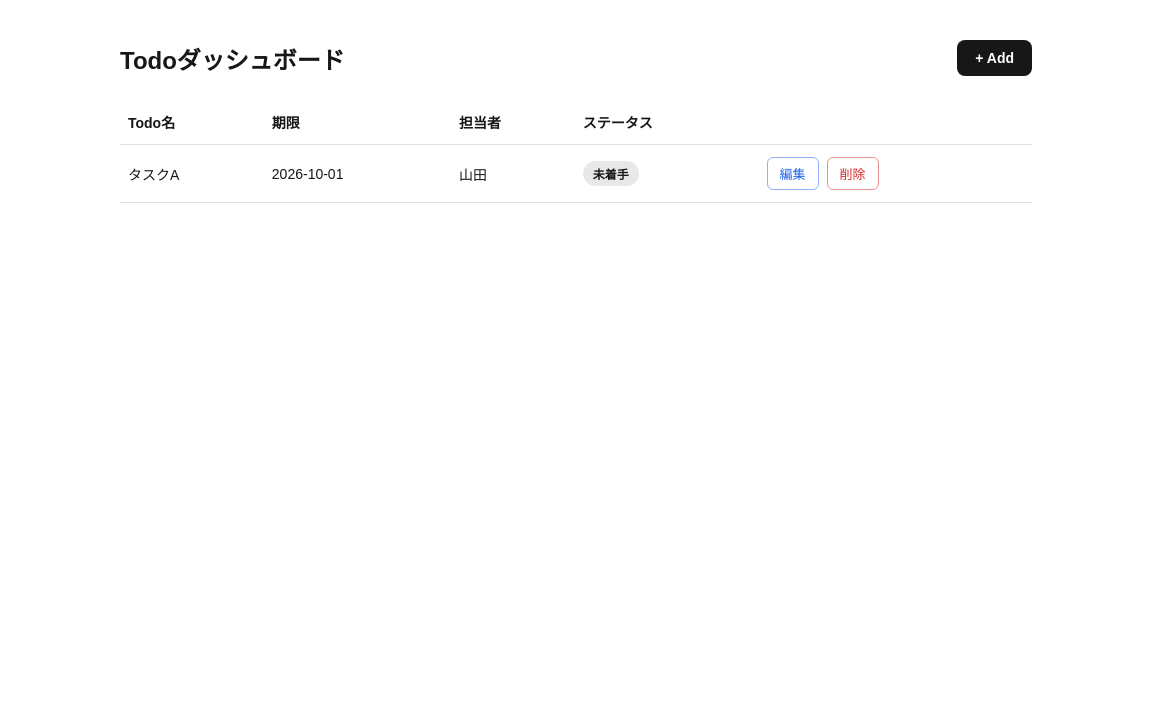
Test: TodoDashboard › closes the edit modal without changing the list when Cancel is clicked
The width and height of the screenshot is (1152, 720).
Click the button "編集".
click(792, 174)  # box [766,157,818,190]
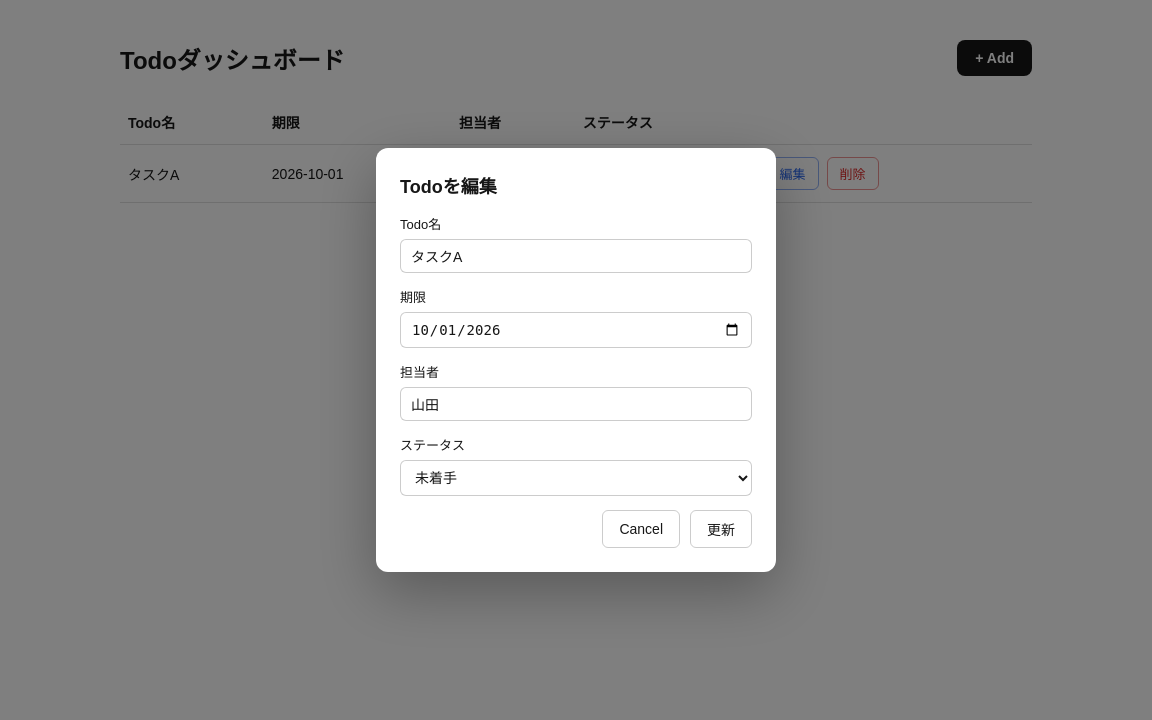
Click the button "Cancel".
click(641, 529)  # box [602,510,680,548]
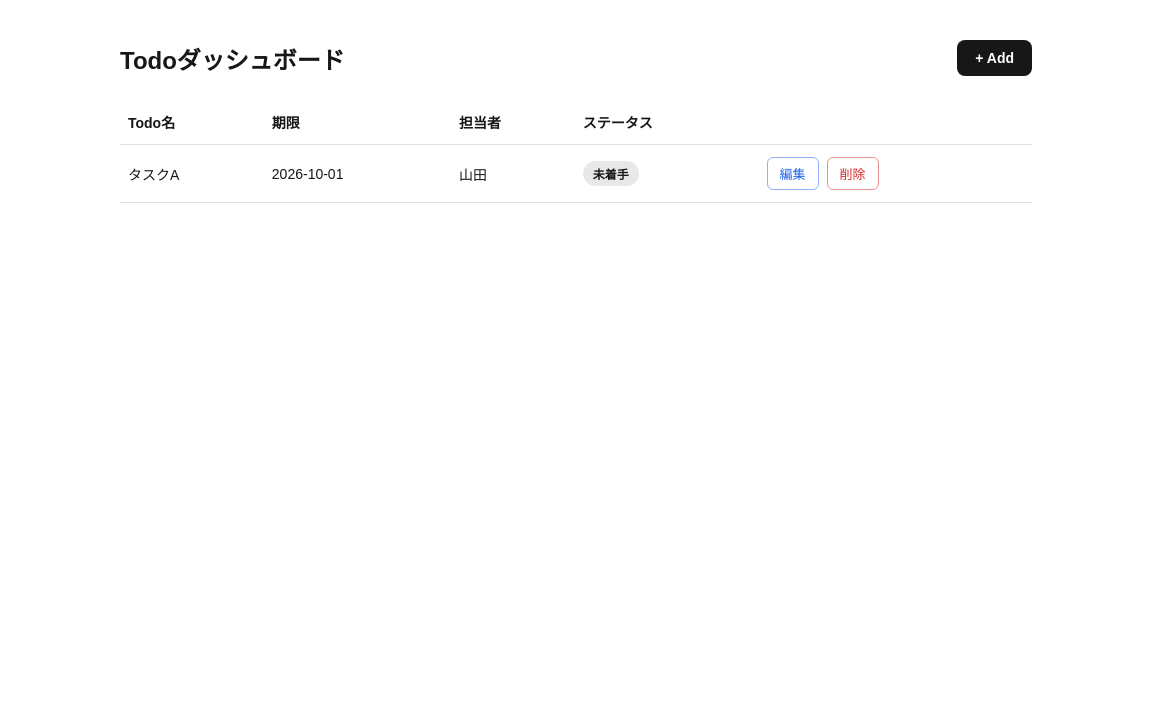
Expected: the text "タスクA" is shown, [120,144,264,202]
Expected: the heading "Todoを編集" is gone
